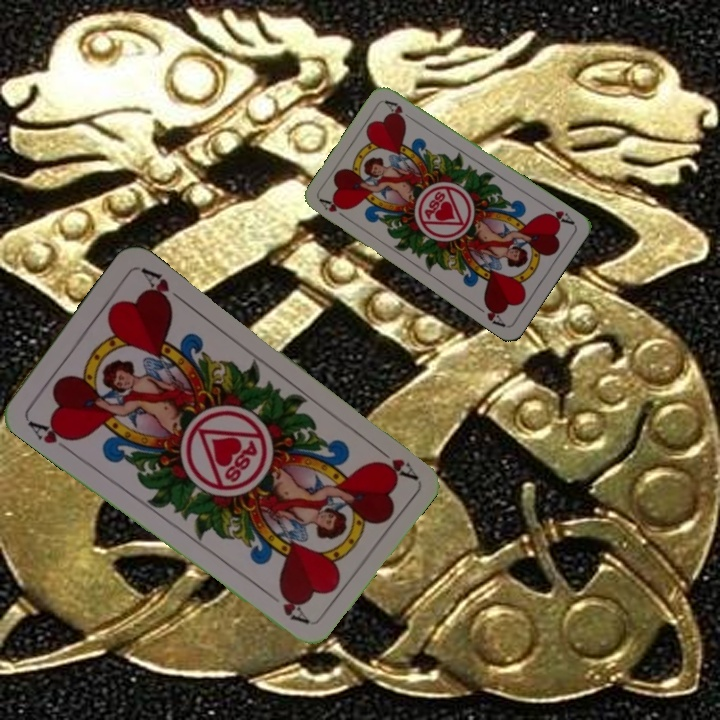HA: (368, 439, 419, 482), (23, 416, 79, 455), (316, 195, 352, 223), (540, 200, 577, 227)
